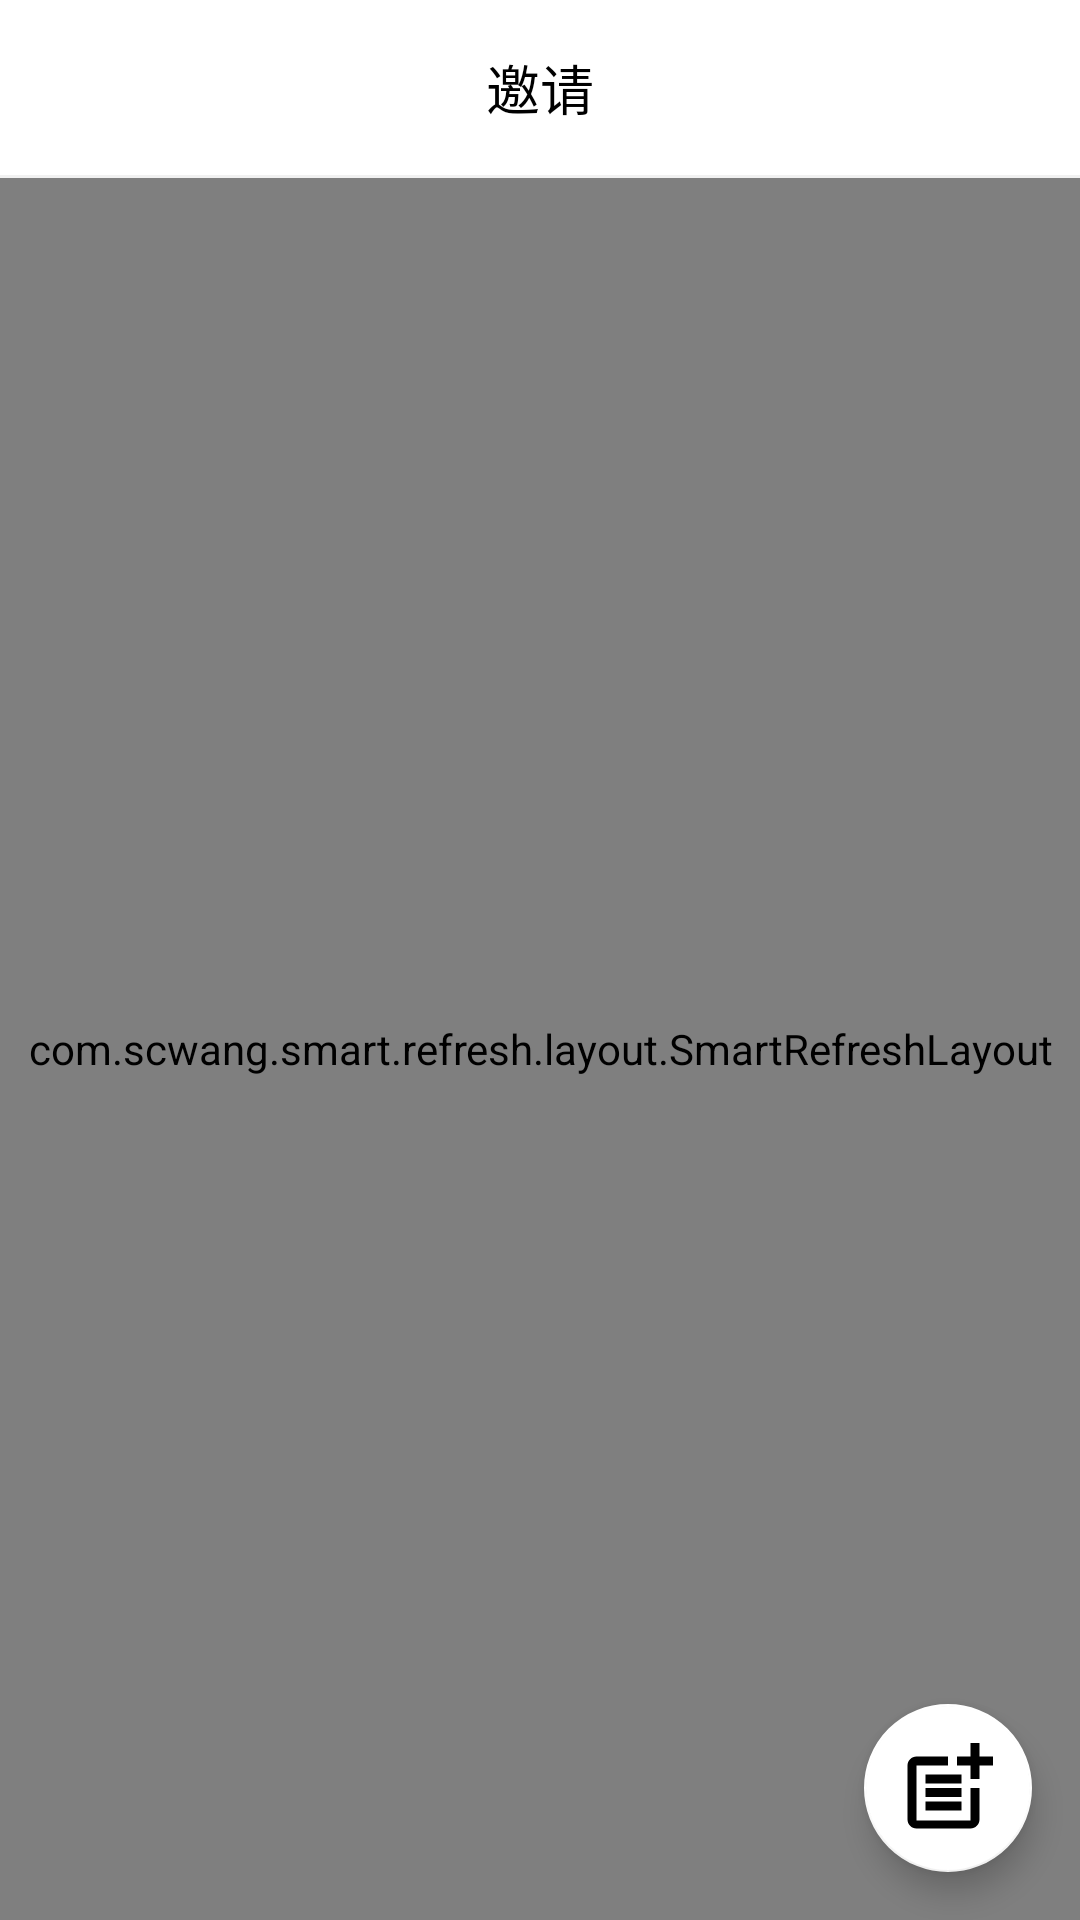

Icon bounding boxes for this 1080x1920 phone screenshot, format (x1, y1, x2, y2):
post add: (864, 1704, 1032, 1872)
